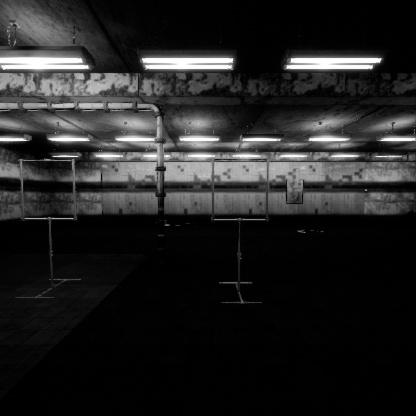gate: (211, 193, 274, 258), (20, 195, 81, 256)
